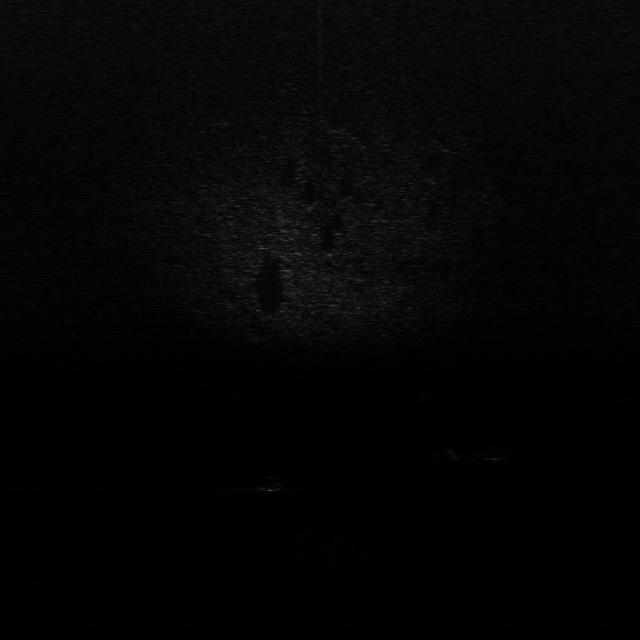ball: (257, 472, 291, 495)
human body: (436, 445, 520, 462)
